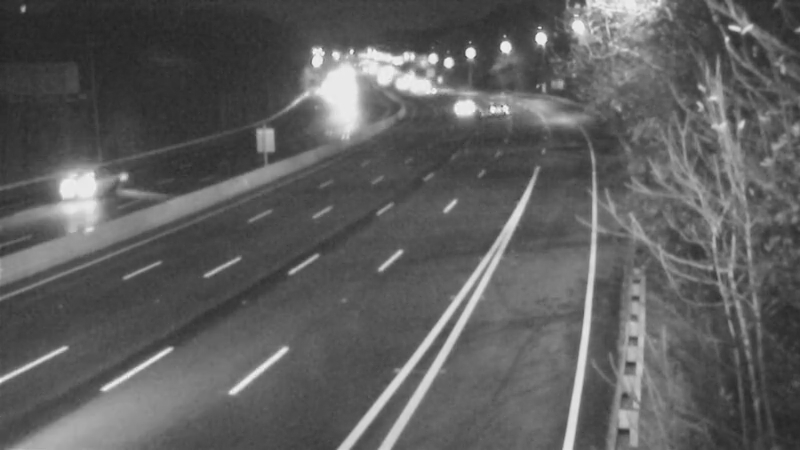vehicle: (35, 147, 115, 227), (438, 75, 488, 125), (465, 73, 515, 123)
